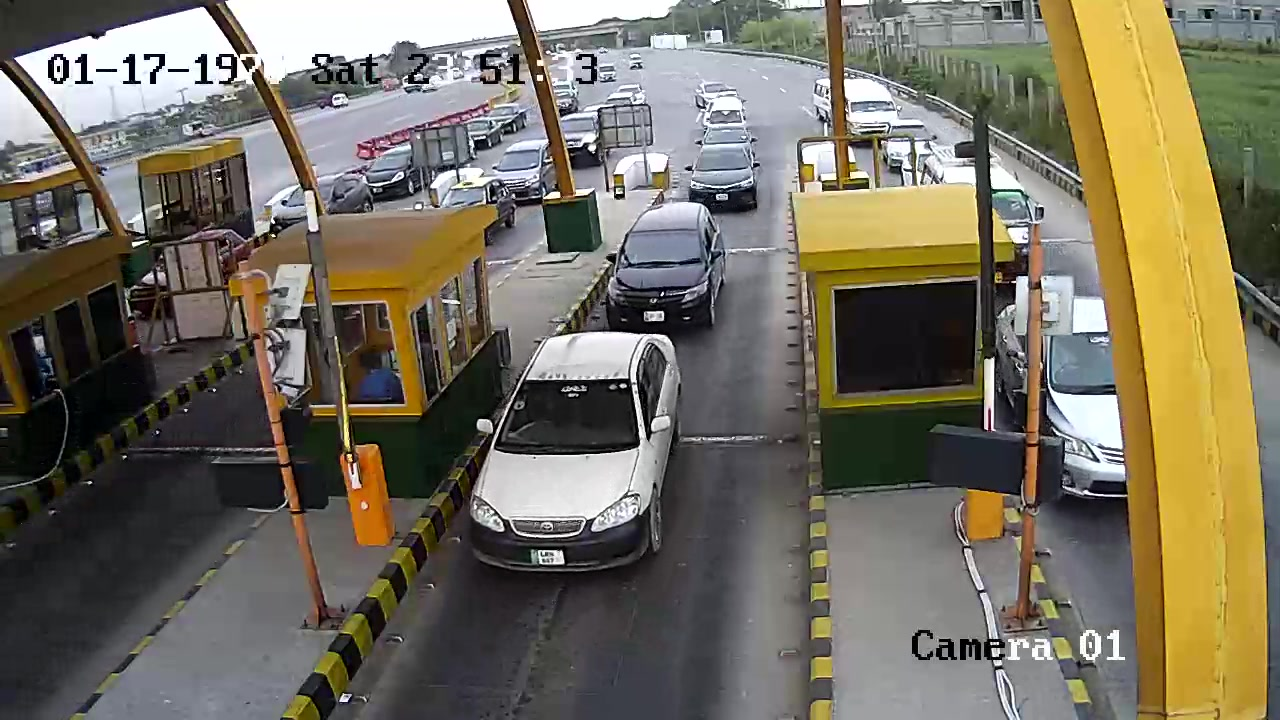F1: (448, 329, 697, 590)
